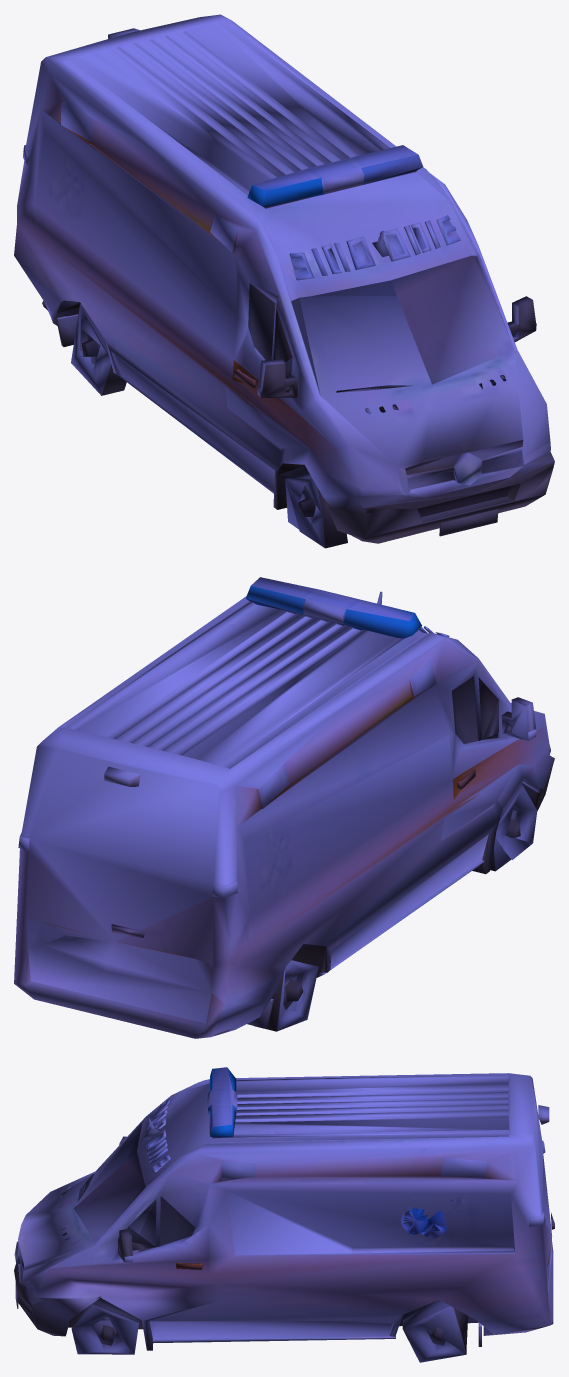
The model's file is model.progressive.glb.
3 renders of one model, top to bottom at view 1: azimuth 30°, elevation 25°; view 2: azimuth 150°, elevation 25°; view 3: azimuth 270°, elevation 25°, orthographic. The views are drawn at different scales.
Visible parts, largest first — view 1: material; view 2: material; view 3: material.
Boxes of the visible parts, x1,y1,x2,y2 form: material: (14, 14, 554, 548); material: (14, 577, 554, 1038); material: (14, 1067, 554, 1362).
Bounding box in the file's own units: 0.8533 × 0.8768 × 1.89.
Materials: 1 (1 with a texture image).
